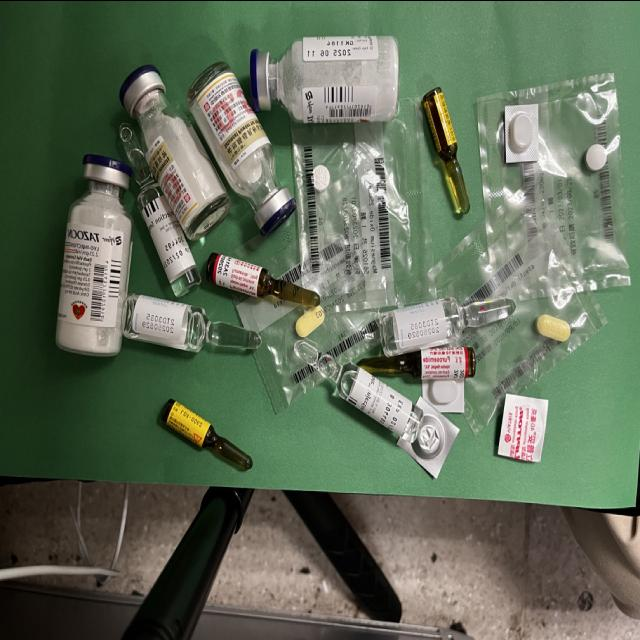Ampoules: (120, 124, 201, 296), (294, 340, 424, 443), (380, 298, 516, 356), (124, 294, 262, 351), (162, 399, 252, 469), (422, 87, 470, 213), (356, 346, 476, 379)
Vials: (120, 65, 231, 241), (188, 62, 296, 236), (56, 153, 132, 356), (250, 35, 398, 122)
